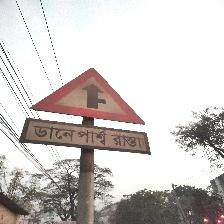Side-road-right: (24, 68, 149, 155)
